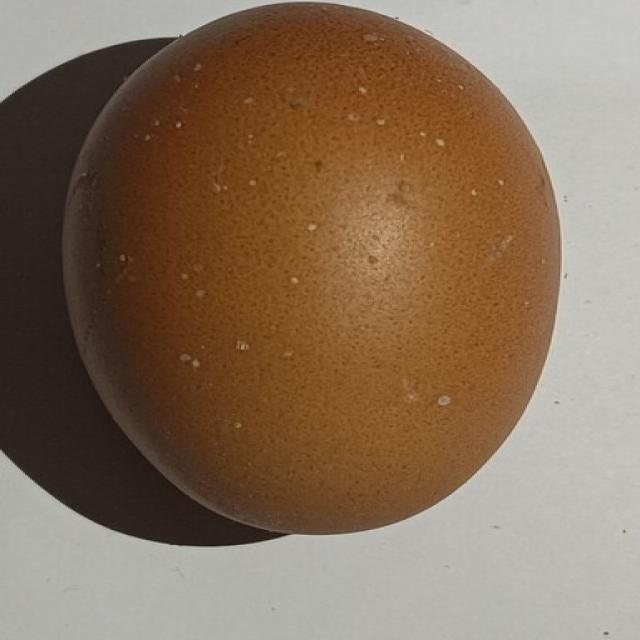unfresh: (45, 0, 572, 548)
